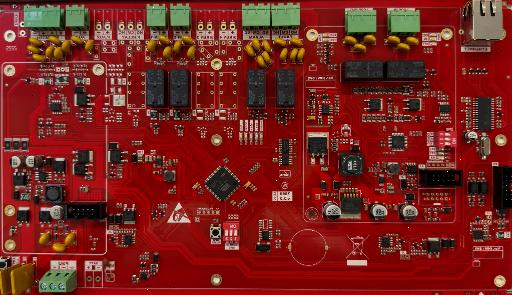var: (11, 262, 37, 295), (0, 262, 21, 295), (64, 231, 75, 250), (38, 232, 51, 246), (48, 36, 63, 46), (53, 47, 64, 60), (395, 43, 410, 52), (70, 36, 85, 45), (27, 45, 42, 54), (245, 45, 256, 57), (52, 243, 64, 254), (261, 40, 271, 53), (181, 35, 194, 45), (45, 46, 55, 59), (32, 54, 48, 62), (343, 36, 357, 45), (352, 43, 366, 52), (163, 46, 172, 60), (62, 40, 71, 54), (404, 37, 419, 45), (386, 36, 401, 44), (29, 38, 44, 46), (147, 40, 157, 52), (363, 35, 376, 44), (289, 37, 302, 46), (158, 36, 171, 45), (257, 55, 266, 68), (262, 51, 271, 64), (85, 39, 94, 52), (297, 48, 305, 62), (187, 46, 195, 60), (290, 48, 298, 62), (280, 48, 288, 62), (252, 38, 260, 51), (173, 40, 181, 53), (274, 38, 286, 46)
